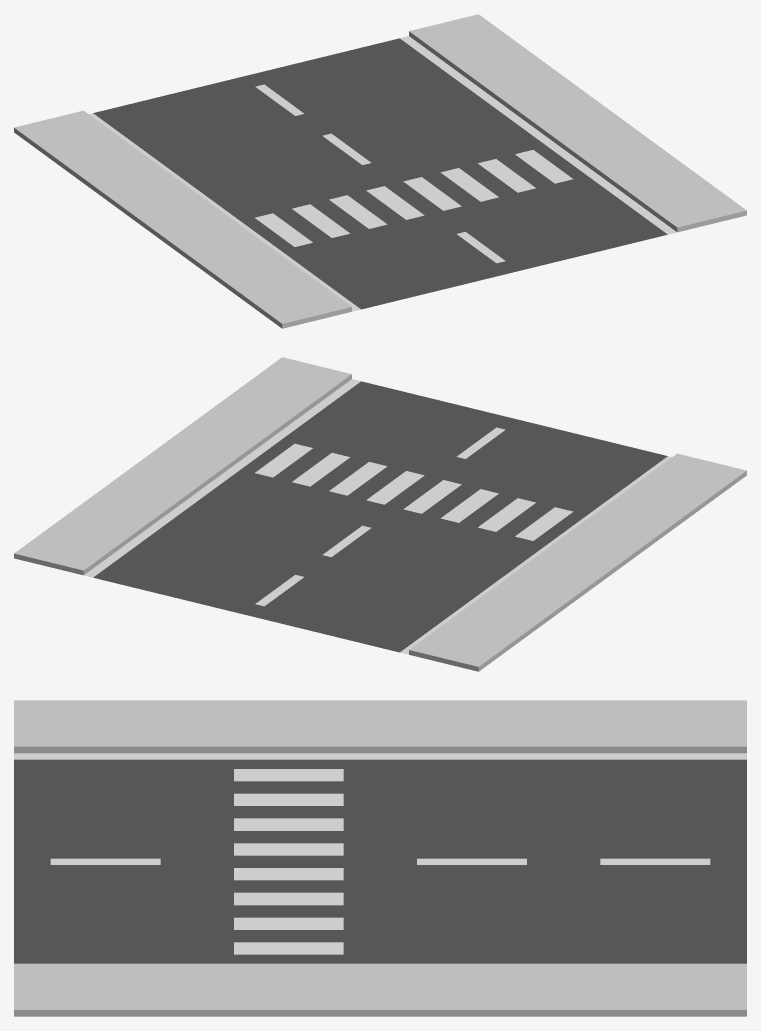
File: road-lane-03.glb
The picture shows the model from 3 angles, top to bottom: view 1: azimuth 30°, elevation 25°; view 2: azimuth 150°, elevation 25°; view 3: azimuth 270°, elevation 25°; orthographic projection. The views are drawn at different scales.
Parts seen in each view (by area): view 1: model; view 2: model; view 3: model.
Part boxes in pixels (x1,y1,x2,y2): model: (14,14,746,328); model: (14,357,746,671); model: (14,700,746,1016).
Bounding box in the file's own units: 20 × 0.2 × 20.
1 material, 1 textured.
